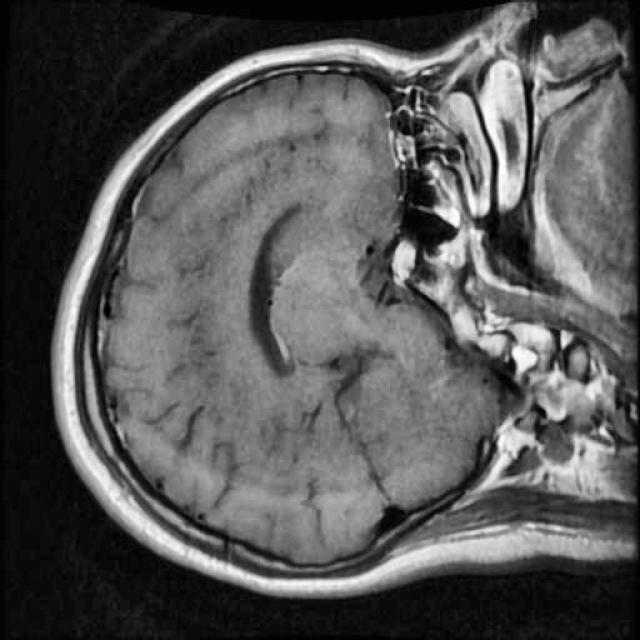Tumor: (376, 229, 431, 299)
